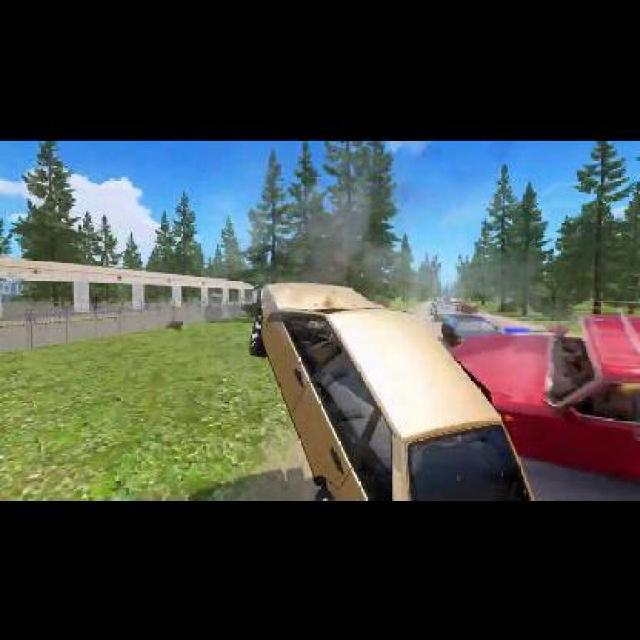accident: (247, 277, 638, 498)
